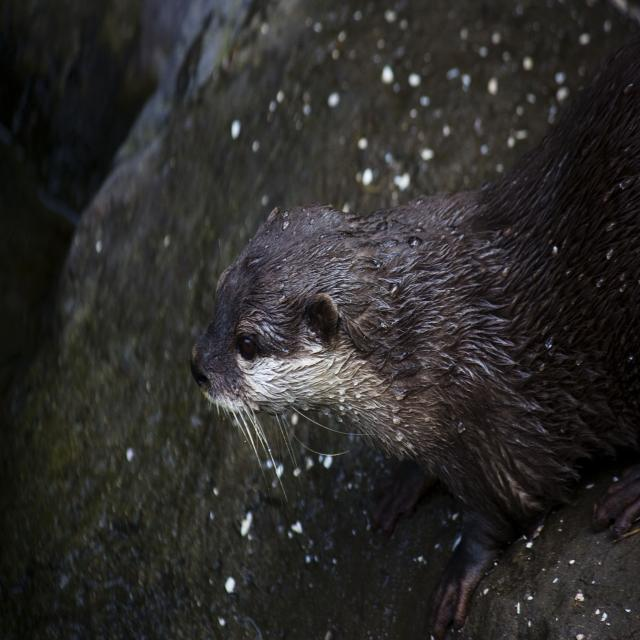otter: (193, 202, 517, 456)
